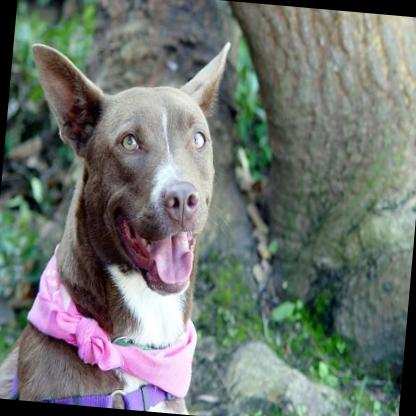kelpie: (0, 19, 235, 414)
